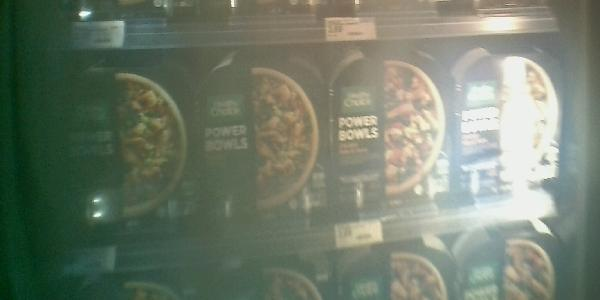pizza: (45, 55, 198, 236), (201, 54, 334, 222), (335, 55, 461, 222), (462, 45, 567, 203)
